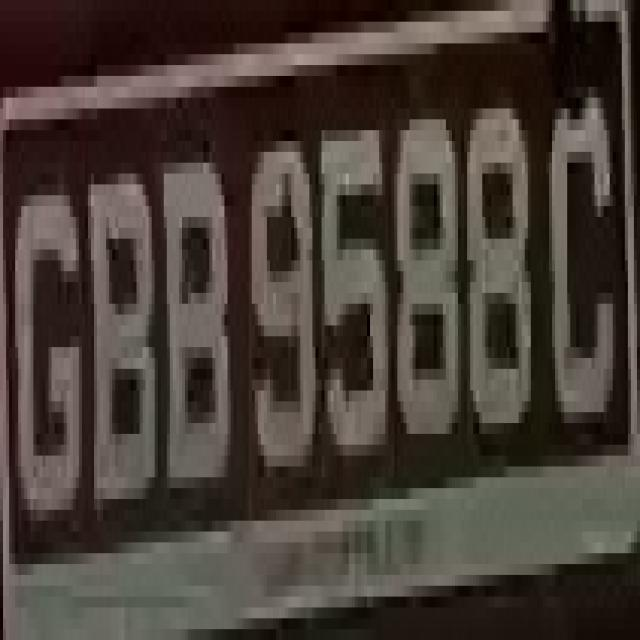5: (322, 98, 392, 477)
8: (461, 65, 537, 477), (388, 87, 461, 488)
9: (240, 98, 318, 510)
B: (152, 130, 236, 532), (91, 120, 158, 542)
C: (543, 65, 625, 445)
G: (9, 163, 88, 553)
